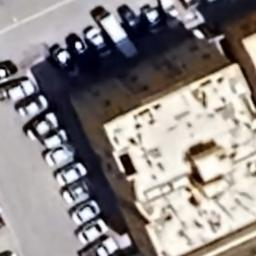SUV: (8, 78, 36, 104)
pickup: (75, 234, 118, 256), (51, 45, 78, 78)
sedan: (26, 112, 62, 140), (61, 182, 94, 208), (70, 202, 104, 226), (86, 28, 112, 58), (16, 96, 48, 118), (44, 144, 74, 166), (72, 220, 105, 239), (55, 169, 89, 184), (43, 132, 69, 146)
truck: (100, 14, 139, 62)
